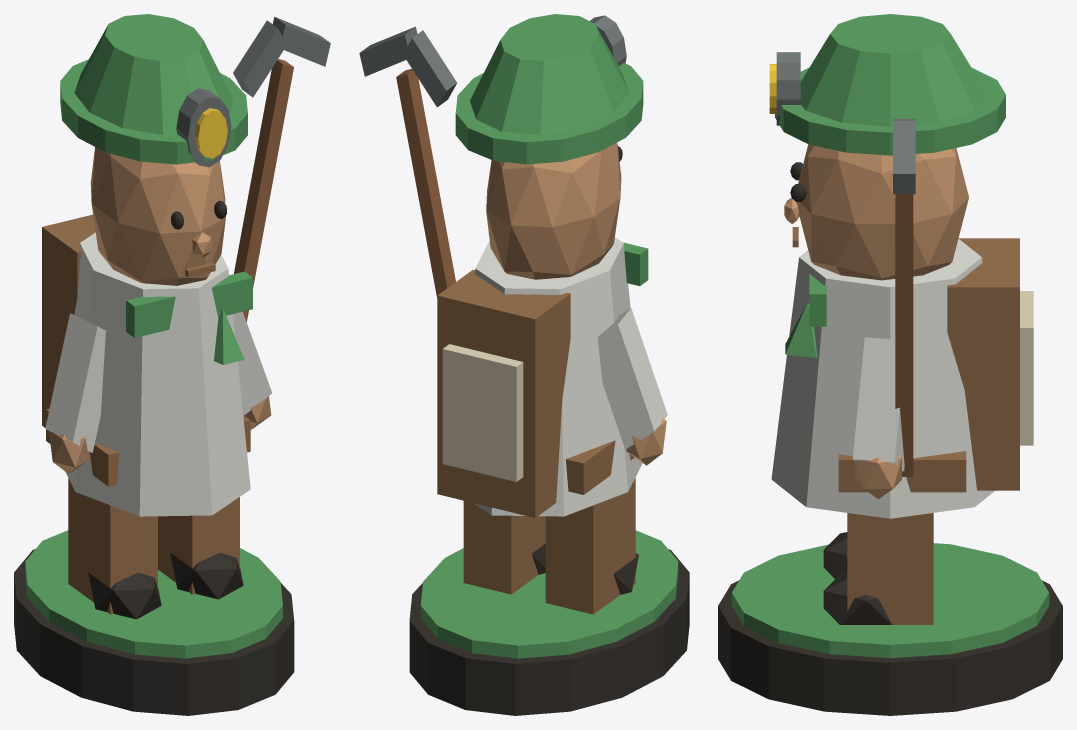
Rendered from peao_garimpeiro_mata.glb.
The picture shows the model from 3 angles, left to right: view 1: azimuth 30°, elevation 25°; view 2: azimuth 150°, elevation 25°; view 3: azimuth 270°, elevation 25°; orthographic projection. The views are drawn at different scales.
Visible parts, largest first — view 1: peao_garimpeiro_mata; view 2: peao_garimpeiro_mata; view 3: peao_garimpeiro_mata.
Boxes of the visible parts, x1,y1,x2,y2 form: peao_garimpeiro_mata: [14, 14, 330, 715]; peao_garimpeiro_mata: [359, 14, 689, 715]; peao_garimpeiro_mata: [718, 14, 1062, 715].
Size of the model in its own units: 2 by 4 by 2.
